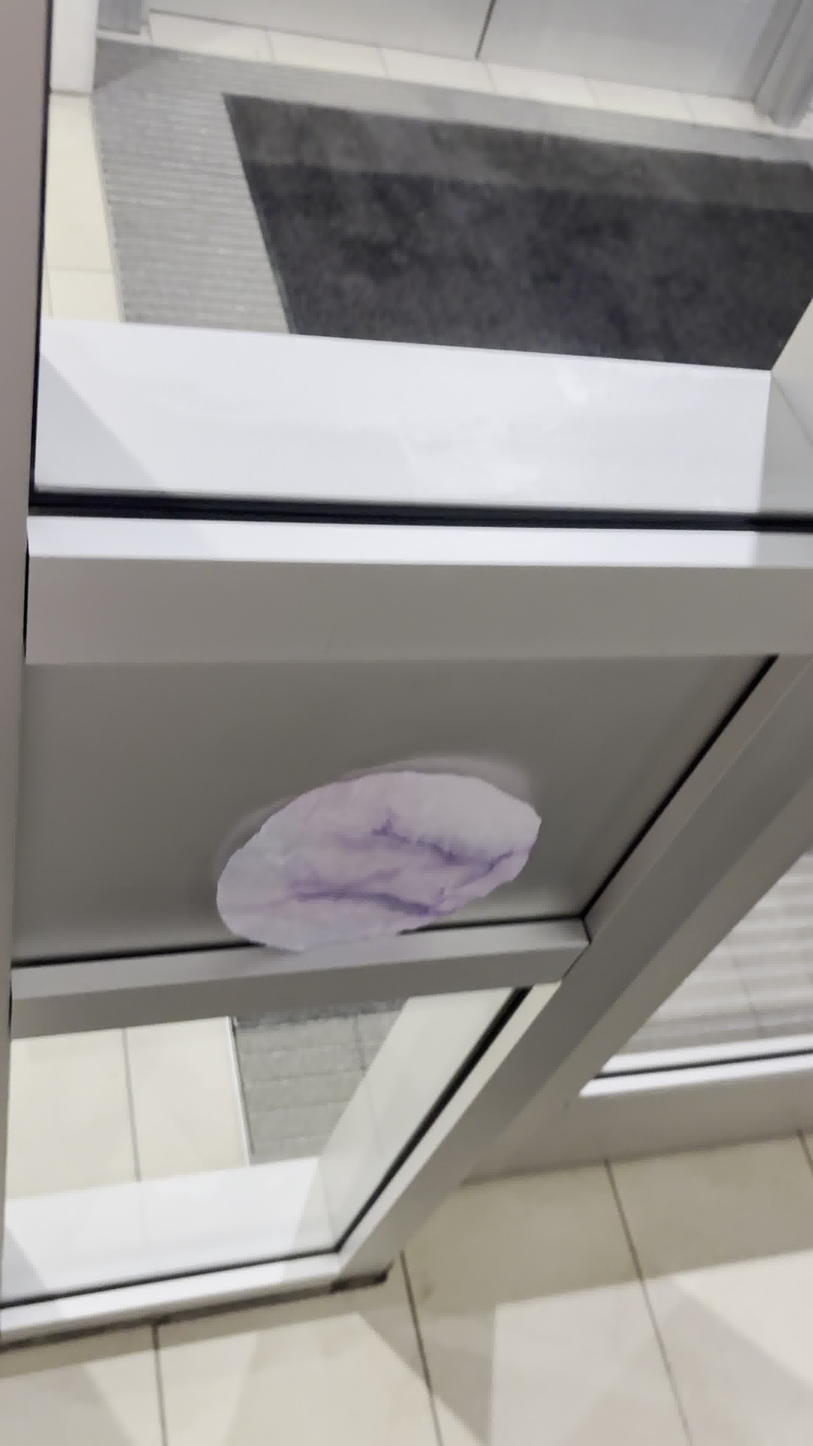Target: (206, 763, 550, 960)
